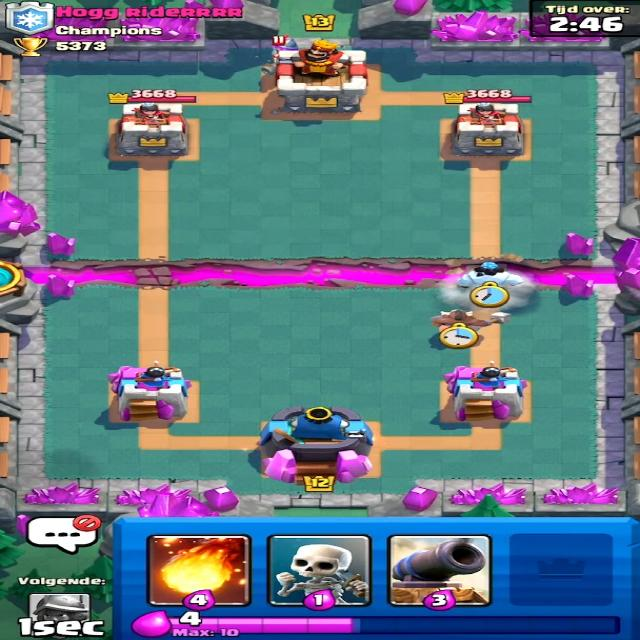Cannon_Card: (388, 535, 491, 612)
Fireball_Card: (157, 535, 247, 603)
Skeleton_Card: (274, 534, 382, 609)
